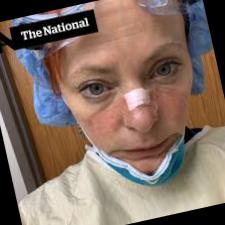mask_weared_incorrect: (65, 41, 210, 193)
